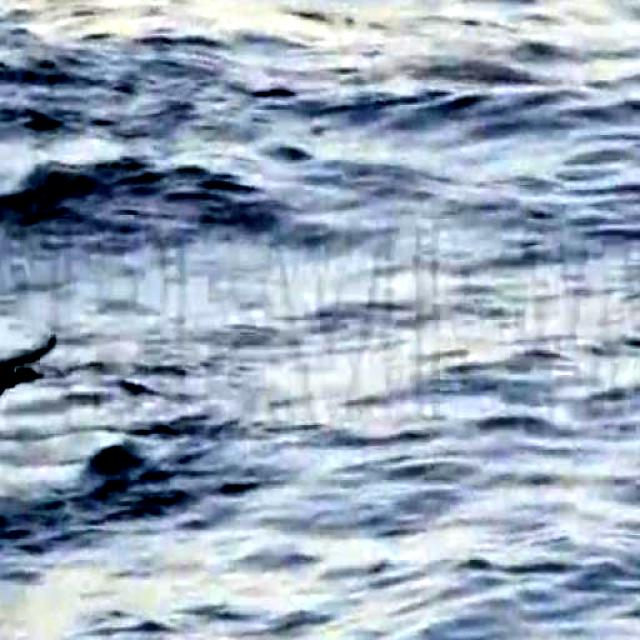airplane: (0, 318, 70, 440)
